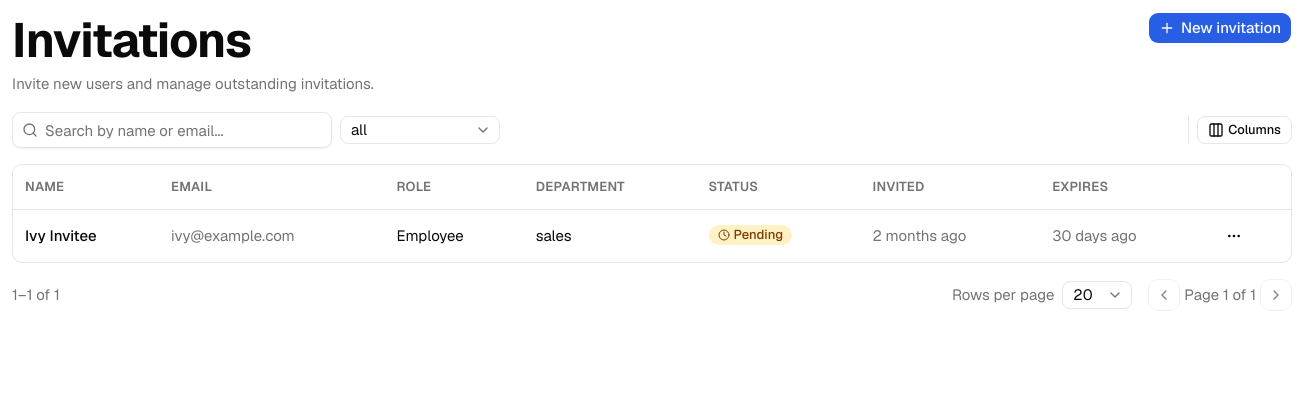
AdminInvitationsPage › shows a 'no matching invitations' empty state while a search is active
The width and height of the screenshot is (1304, 409).
Expected: the text "Ivy Invitee" is shown, [25,226,97,244]
Type "nobody" into the field with placeholder "Search by name or email..." at (172, 130), box [12,112,332,148]
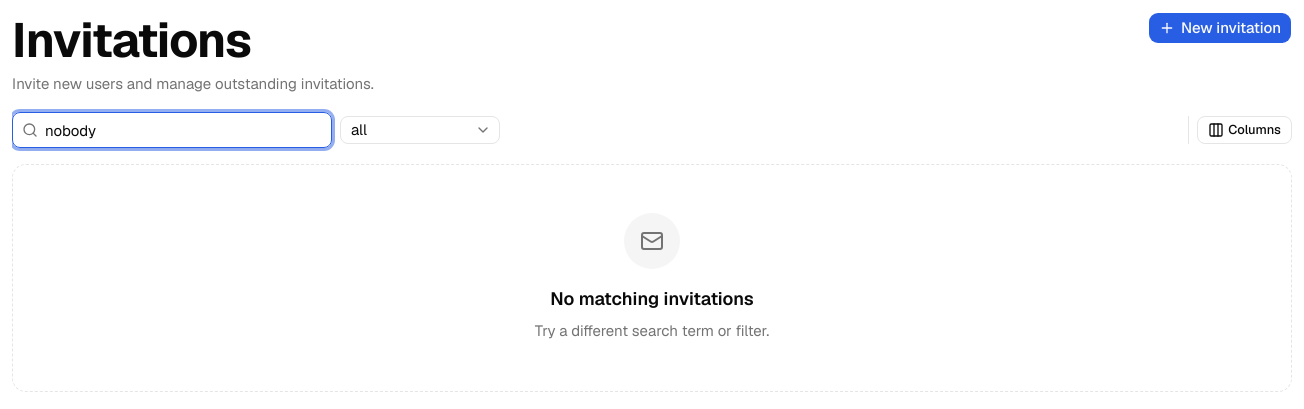
Result: the text "No matching invitations" is shown at [535,285,769,313]
